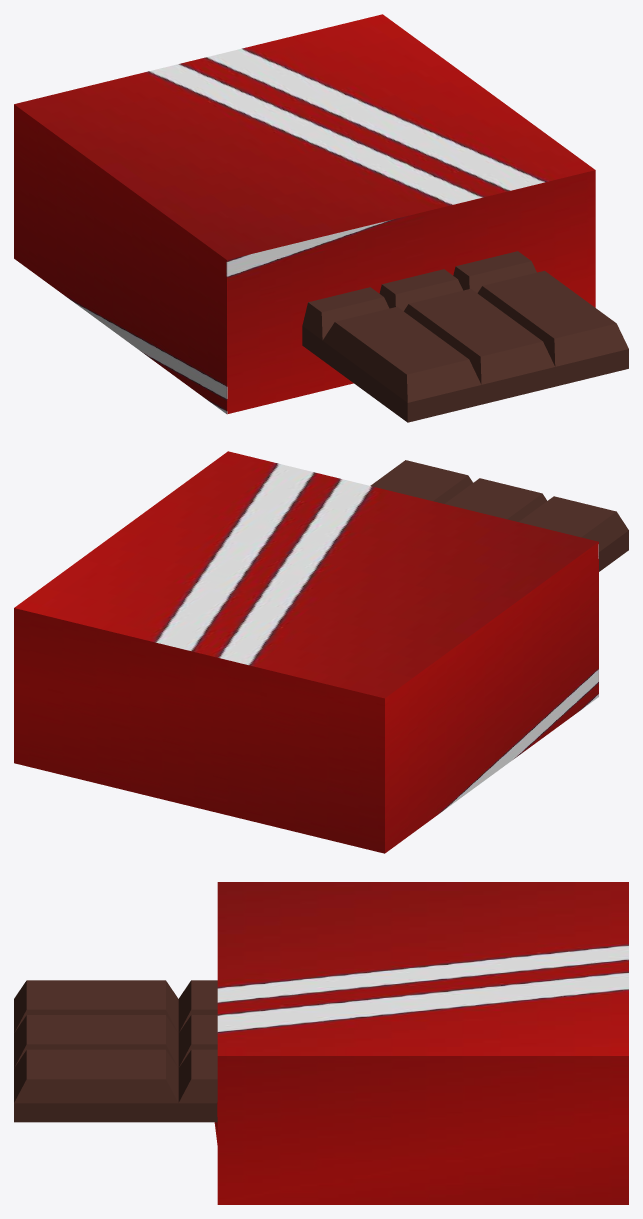
Rendered from ahhhh.glb.
3 renders of one model, top to bottom at view 1: azimuth 30°, elevation 25°; view 2: azimuth 150°, elevation 25°; view 3: azimuth 270°, elevation 25°, orthographic. The views are drawn at different scales.
Parts seen in each view (by area): view 1: Cube.001, Cube; view 2: Cube.001, Cube; view 3: Cube.001, Cube.
Part boxes in pixels (<box>): Cube.001: <box>14,14,595,414</box>; Cube: <box>302,251,628,422</box>; Cube.001: <box>14,451,598,853</box>; Cube: <box>370,460,628,571</box>; Cube.001: <box>214,882,628,1204</box>; Cube: <box>14,980,217,1122</box>.
Size of the model in its own units: 5 by 2 by 7.47.
Materials: 2 (1 with a texture image).
